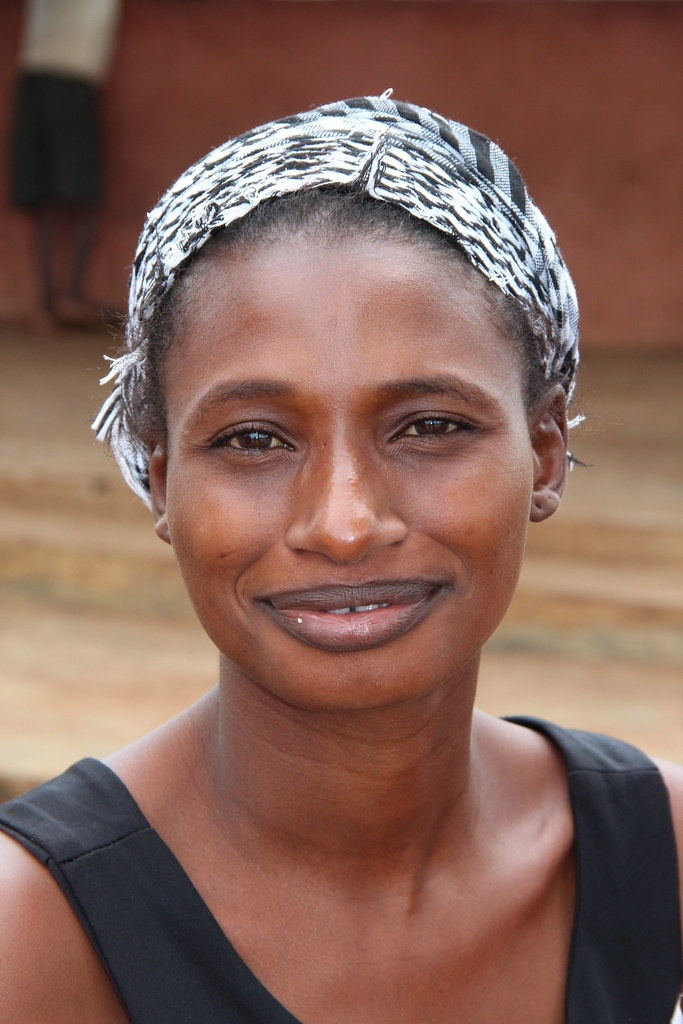without_mask: (143, 228, 545, 694)
